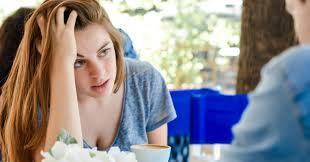Persons: (28, 0, 139, 113)
